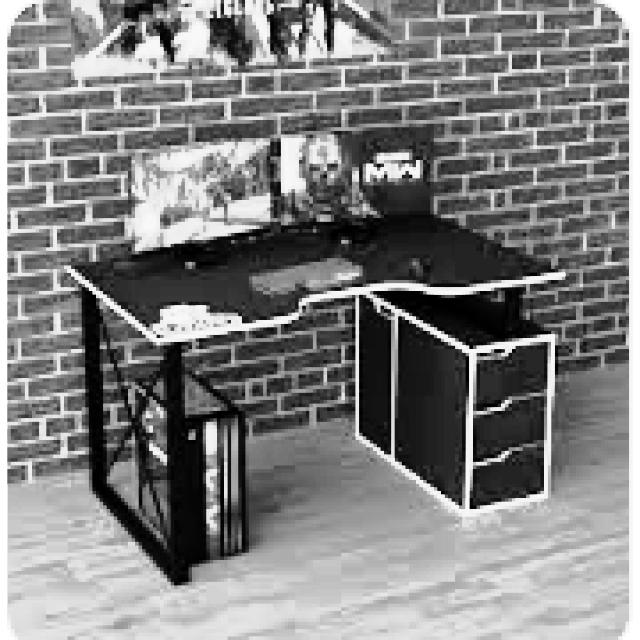table: (61, 207, 566, 582)
